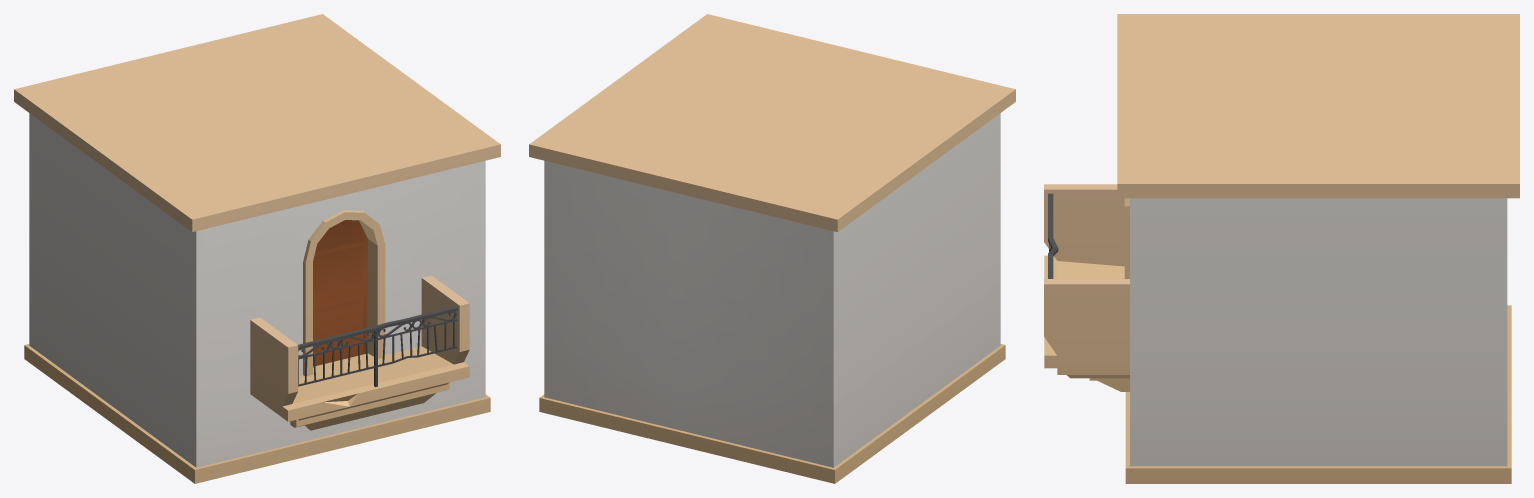
File: Room 07.fbx
3 views of the same model, side by side, from view 1: azimuth 30°, elevation 25°; view 2: azimuth 150°, elevation 25°; view 3: azimuth 270°, elevation 25° (orthographic). The views are drawn at different scales.
Visible parts, largest first — view 1: Room 07 high, Room 07, Room 07 low; view 2: Room 07 high, Room 07; view 3: Room 07 high, Room 07, Room 07 low.
Part boxes in pixels (x1,y1,x2,y2): Room 07 high: (14, 14, 500, 483); Room 07: (14, 22, 490, 482); Room 07 low: (208, 163, 484, 430); Room 07 high: (529, 14, 1015, 483); Room 07: (530, 90, 1012, 483); Room 07 high: (1044, 14, 1519, 483); Room 07: (1044, 14, 1519, 483); Room 07 low: (1044, 184, 1129, 378).
Size of the model in its own units: 4 by 3.33 by 4.73.
1 material, 1 textured.
